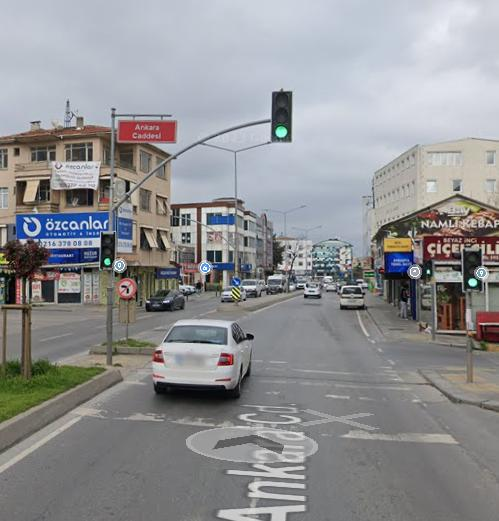greenlight: (272, 91, 292, 144), (462, 251, 485, 291), (100, 232, 115, 270)
leftturnsareforbidden: (119, 278, 137, 298)
